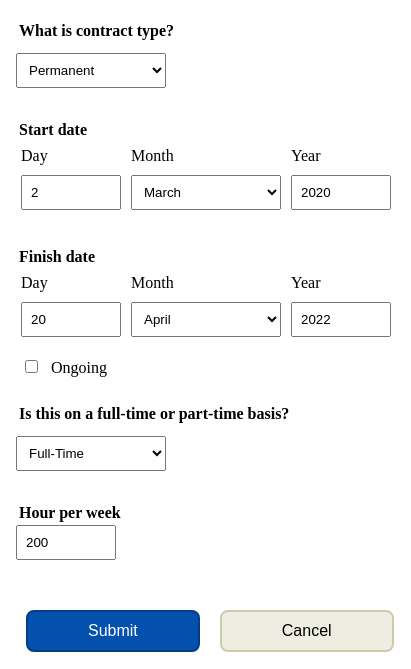
Test: Test create employee form › should show error message when invalid hours entered correct
The width and height of the screenshot is (411, 669).
(page scrolled)
What coordinates should you click on to do the following:
click the button with test id "submitBtn"
I would click on:
 (113, 631)
Its box is top-left (26, 610), bottom-right (200, 652).
(page scrolled)
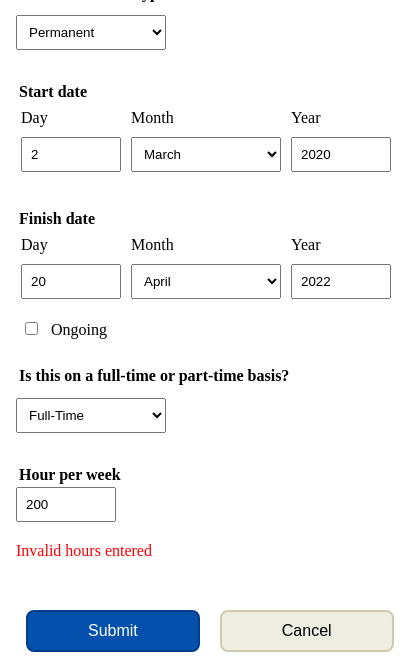
Check: the text "Invalid hours entered" is shown, box top-left (16, 542), bottom-right (152, 559)
